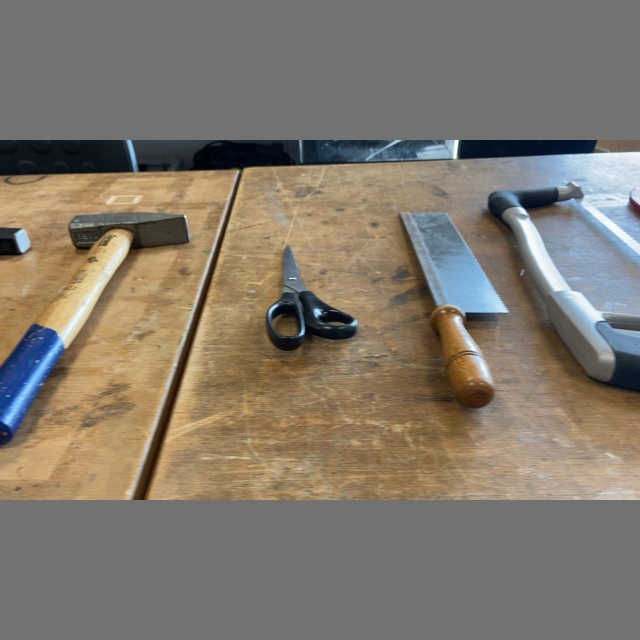scissor: (262, 240, 363, 358)
